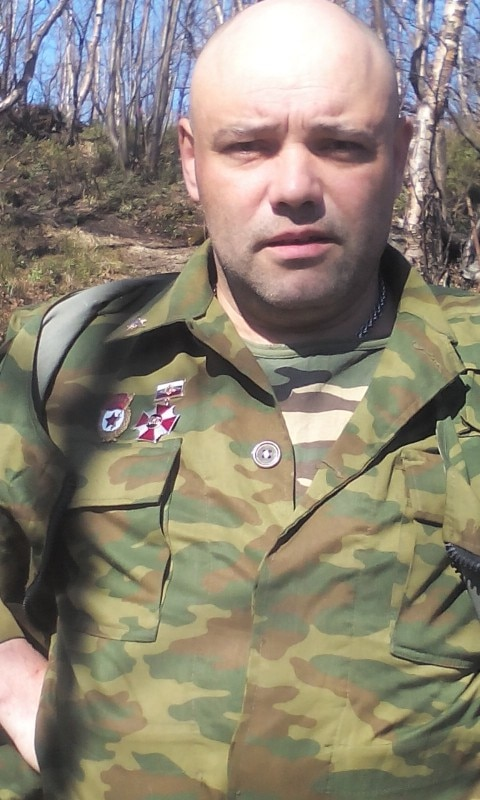shirts: (11, 259, 480, 786)
